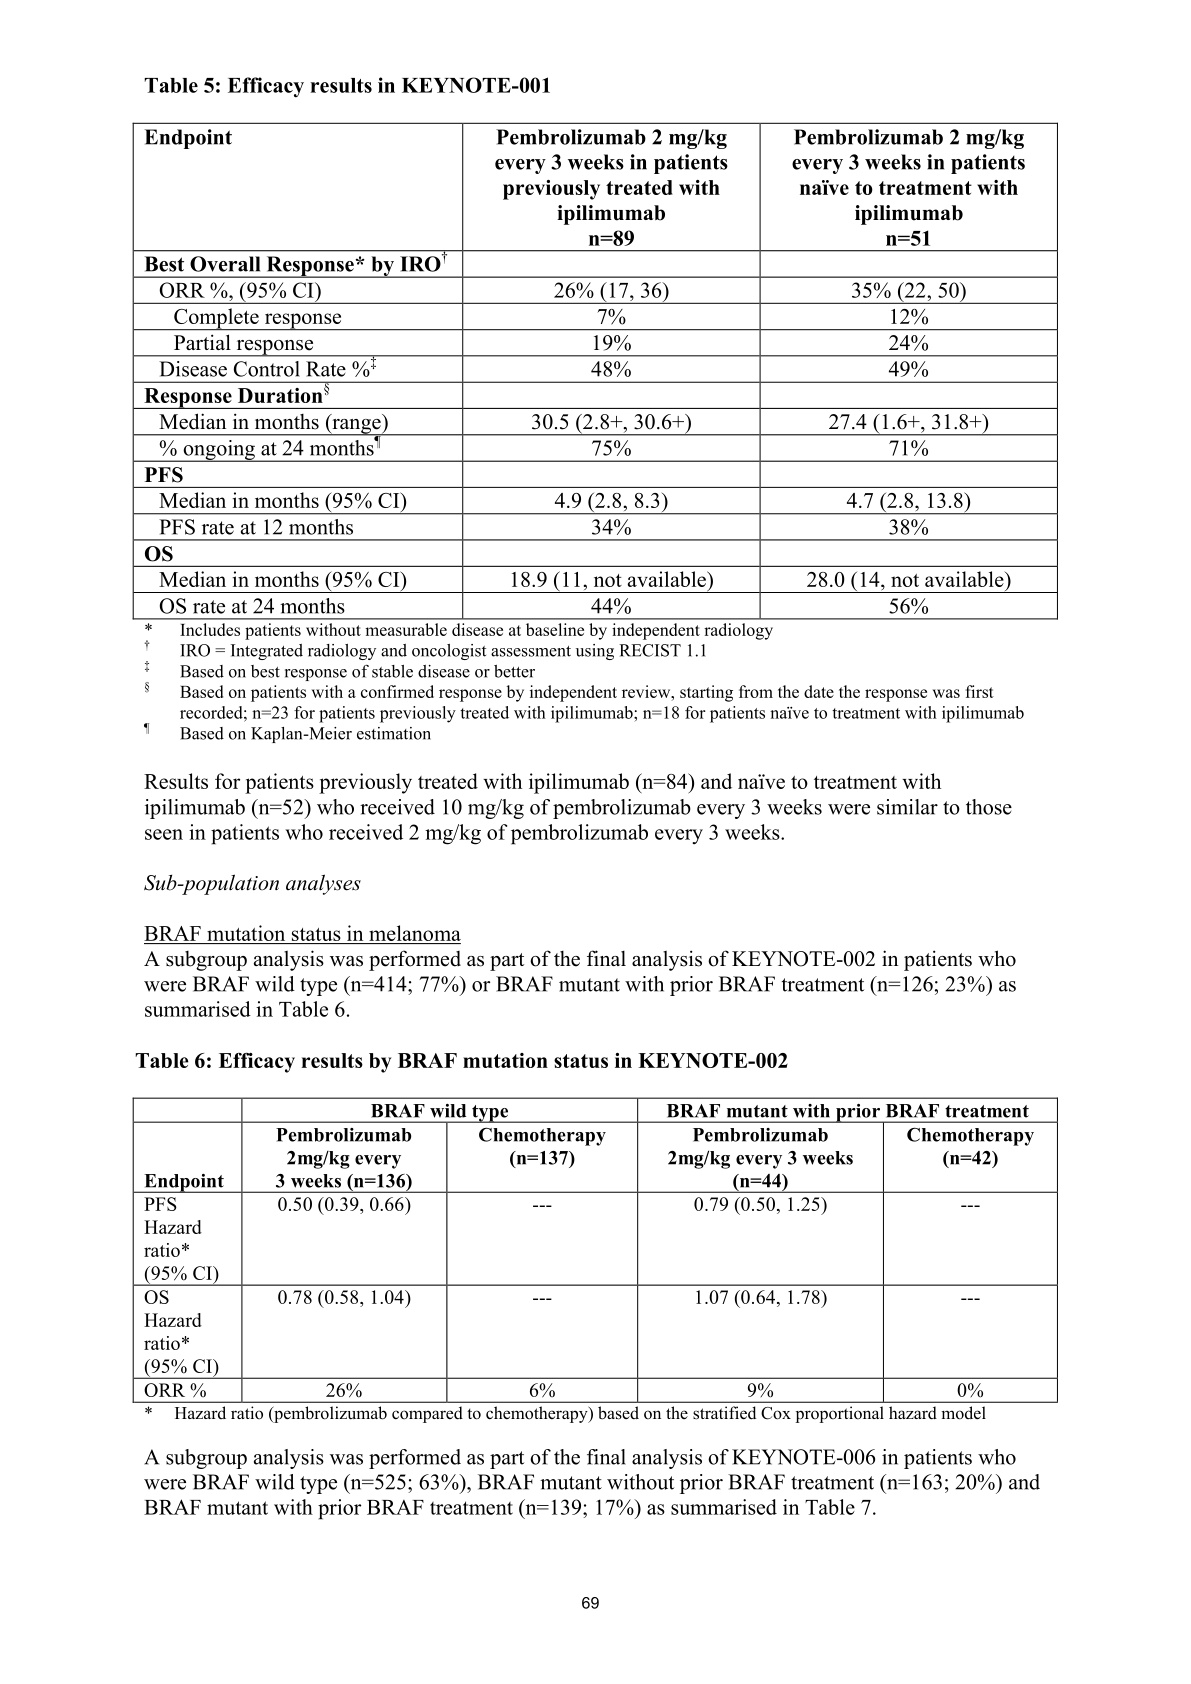full_lined: (131, 122, 1058, 620)
merged_cells: (131, 1096, 1058, 1404)
